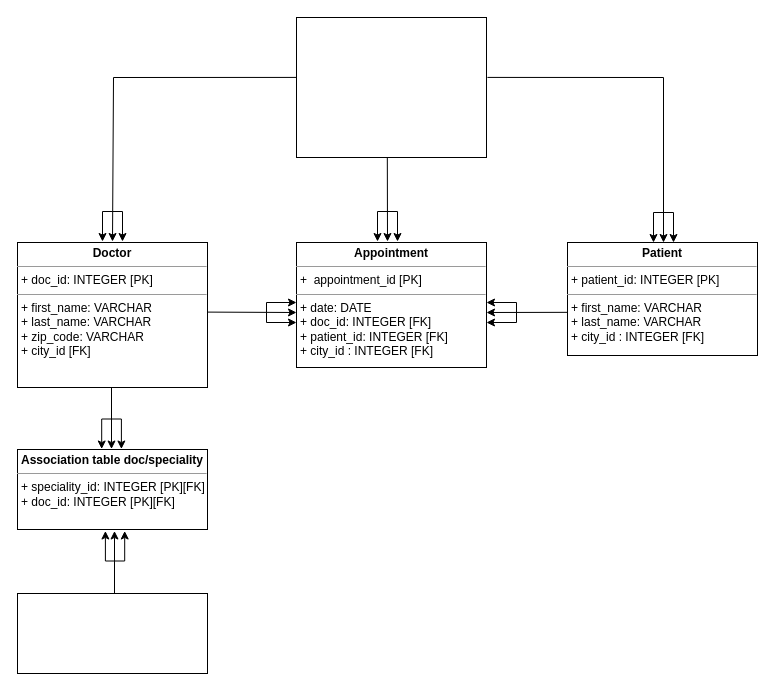
Some shapes in this 775 by 691 pixel diagram are drawn without their labels. Each missing label, with the centre of its shape:
"City + city_id [PK] + name: INTEGER + region : INTEGER" belongs at pixel 391 87.
"Speciality + speciality_id: INTEGER [PK] + speciality: VARCHAR" belongs at pixel 112 633.
